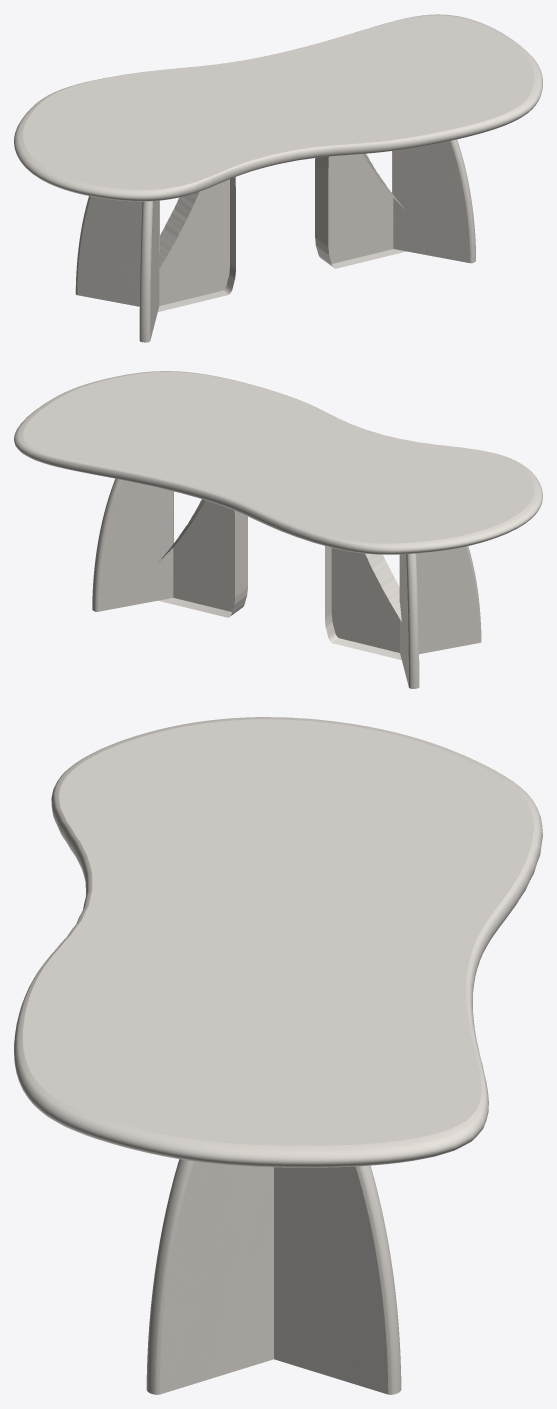
File: pearlwhite_wave_round_plane.glb
The picture shows the model from 3 angles, top to bottom: view 1: azimuth 30°, elevation 25°; view 2: azimuth 150°, elevation 25°; view 3: azimuth 270°, elevation 25°; orthographic projection. The views are drawn at different scales.
Visible parts, largest first — view 1: round_wave, plane_singleright2, plane_single1, plane_single2, plane_singleleft1, plane_singleright1; view 2: round_wave, plane_singleleft2, plane_single2, plane_single1, plane_singleright1, plane_singleleft1; view 3: round_wave, plane_singleright2, plane_singleleft2.
Part boxes in pixels (<box>): round_wave: <box>14,14,542,201</box>; plane_singleright2: <box>392,139,475,263</box>; plane_single1: <box>158,177,235,311</box>; plane_single2: <box>315,153,406,268</box>; plane_singleleft1: <box>75,196,159,306</box>; plane_singleright1: <box>139,200,159,342</box>; round_wave: <box>14,371,542,554</box>; plane_singleleft2: <box>92,478,173,611</box>; plane_single2: <box>158,499,247,617</box>; plane_single1: <box>325,546,401,660</box>; plane_singleright1: <box>399,546,481,654</box>; plane_singleleft1: <box>400,553,419,688</box>; round_wave: <box>14,717,542,1167</box>; plane_singleright2: <box>146,1159,273,1394</box>; plane_singleleft2: <box>274,1165,401,1394</box>.
Bounding box in the file's own units: 7.5 × 2.49 × 3.8.
Materials: 1 (1 with a texture image).
